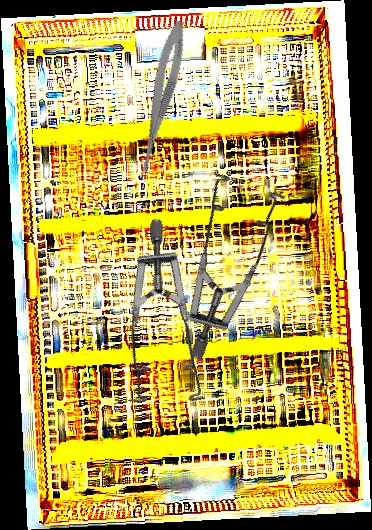Micro Scissor: (133, 18, 191, 185)
Speculum: (111, 149, 329, 362), (70, 215, 271, 433)
